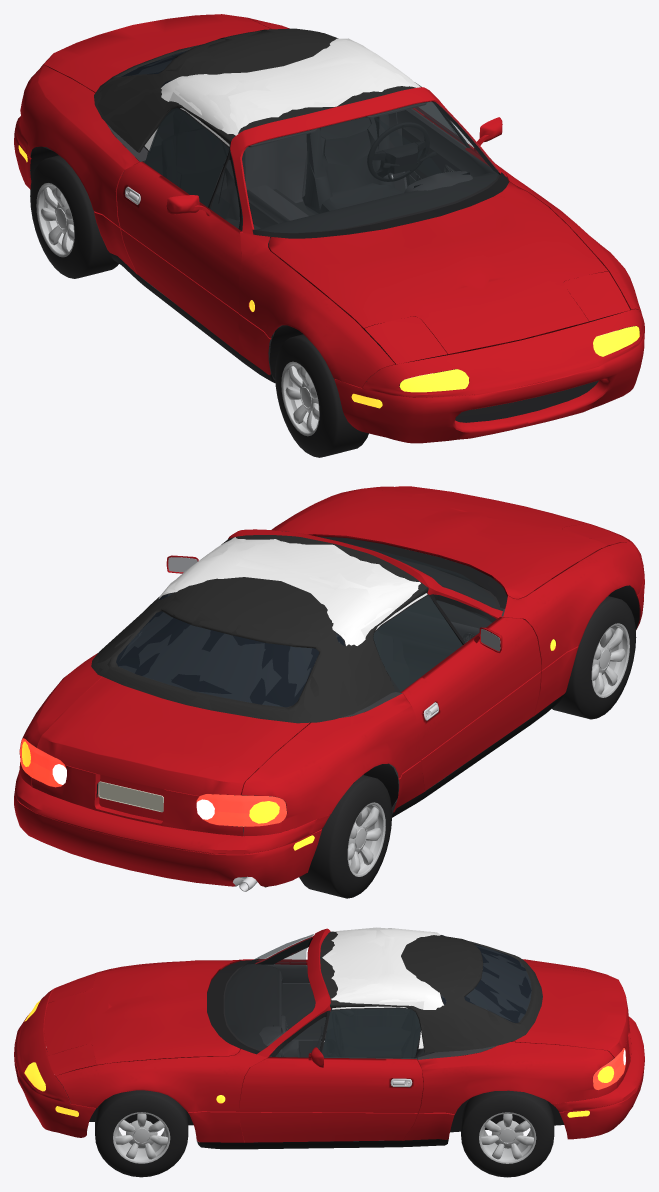
File: miata.glb
3 renders of one model, top to bottom at view 1: azimuth 30°, elevation 25°; view 2: azimuth 150°, elevation 25°; view 3: azimuth 270°, elevation 25°, orthographic. The views are drawn at different scales.
Visible parts, largest first — view 1: body_shell, bonnet, glass_body, cabin, door_FR, softtop_source, hardtop_source, bootlid, hardtop_LOD1_window_R, tyre_RR, hardtop_LOD2_window_R, tyre_FR (+13 smaller); view 2: body_shell, softtop_source, bootlid, softtop_LOD1_source, bonnet, door_FR, hardtop_source, tyre_RR, hardtop_LOD1_window_R, hardtop_LOD2_window_R, tyre_FR, hardtop_LOD1_source (+12 smaller); view 3: body_shell, door_FL, bonnet, softtop_source, bootlid, glass_body, softtop_LOD1_source, cabin, hardtop_source, tyre_RL, tyre_FL, hardtop_LOD1_window_L (+11 smaller).
Boxes of the visible parts, x1,y1,x2,y2 form: body_shell: [14, 17, 644, 443]; bonnet: [268, 181, 608, 354]; glass_body: [242, 102, 499, 232]; cabin: [107, 101, 506, 347]; door_FR: [116, 161, 241, 353]; softtop_source: [97, 28, 421, 152]; hardtop_source: [144, 39, 411, 203]; bootlid: [41, 14, 271, 92]; hardtop_LOD1_window_R: [145, 108, 228, 206]; tyre_RR: [30, 155, 118, 278]; hardtop_LOD2_window_R: [145, 108, 228, 206]; tyre_FR: [275, 334, 368, 457]; body_shell: [14, 486, 644, 887]; softtop_source: [95, 535, 428, 723]; bootlid: [37, 676, 310, 795]; softtop_LOD1_source: [91, 535, 427, 722]; bonnet: [278, 488, 607, 599]; door_FR: [400, 617, 541, 790]; hardtop_source: [159, 539, 460, 645]; tyre_RR: [299, 775, 391, 898]; hardtop_LOD1_window_R: [373, 596, 462, 691]; hardtop_LOD2_window_R: [373, 596, 462, 691]; tyre_FR: [552, 596, 636, 719]; hardtop_LOD1_source: [158, 538, 427, 645]; body_shell: [14, 928, 644, 1149]; door_FL: [239, 1057, 423, 1142]; bonnet: [44, 959, 240, 1065]; softtop_source: [324, 931, 542, 1052]; bootlid: [511, 966, 629, 1057]; glass_body: [225, 934, 313, 1049]; softtop_LOD1_source: [320, 935, 542, 1052]; cabin: [223, 937, 497, 1141]; hardtop_source: [316, 928, 444, 1049]; tyre_RL: [461, 1090, 554, 1177]; tyre_FL: [95, 1090, 188, 1177]; hardtop_LOD1_window_L: [322, 1008, 420, 1057].
Size of what is drawn, in the model's own units: 1.79 by 1.15 by 3.91.
Materials: 33 (2 with a texture image).
